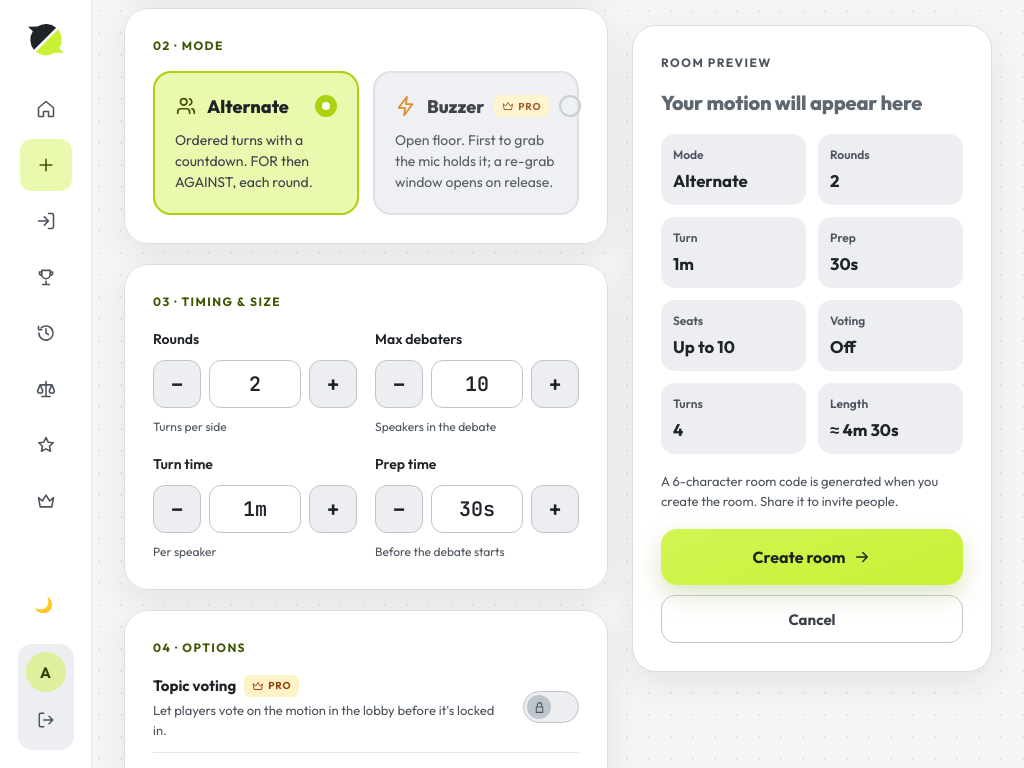
Test case: CreateRoom › Stepper component › clicking − on Rounds stepper decrements when not at minimum
(page scrolled)
Click the button named "Fewer rounds" at [177, 384], box [153,360,201,408]
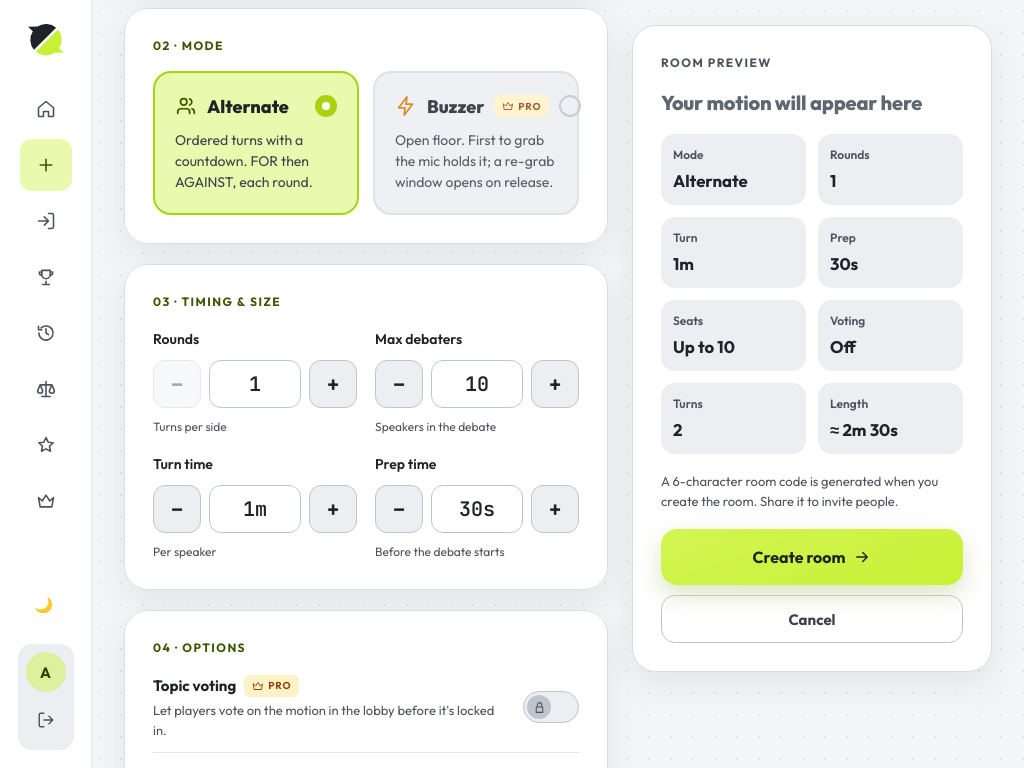
Now the text "1" below "Max debaters" is shown, box [249,371,261,397]
Now the text "2" is shown, box [673,419,682,440]
